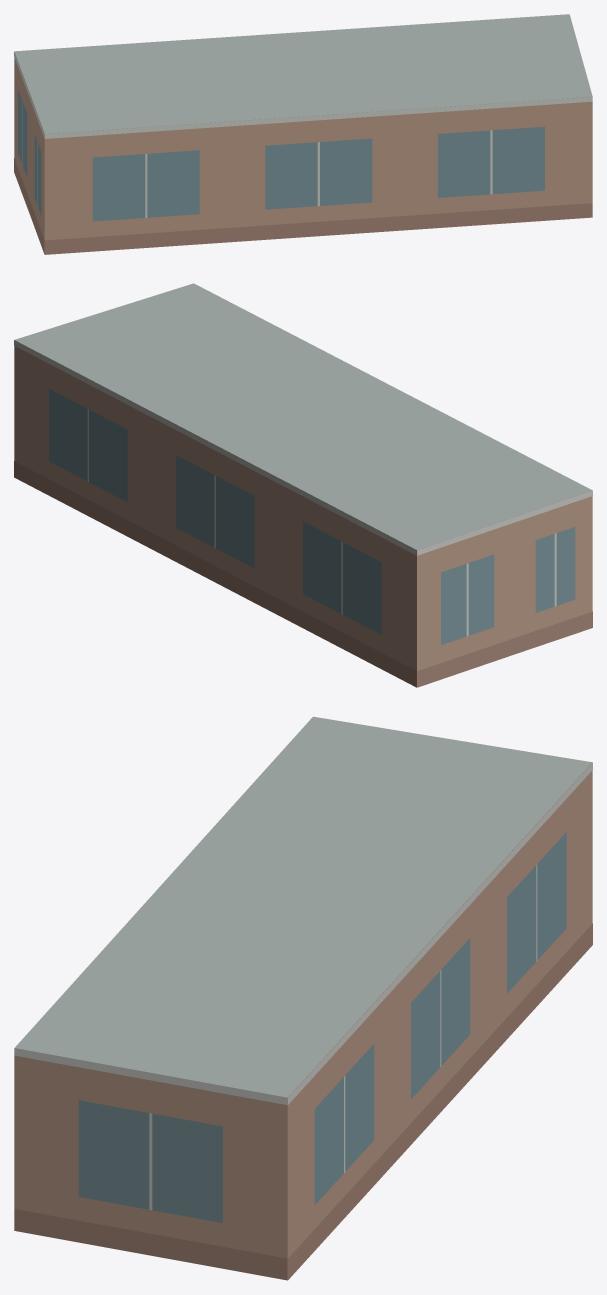
The model's file is survey-upis-32810674.glb.
3 views of the same model, one above another, from view 1: azimuth 30°, elevation 25°; view 2: azimuth 150°, elevation 25°; view 3: azimuth 270°, elevation 25° (orthographic). The views are drawn at different scales.
Parts seen in each view (by area): view 1: survey-upis-32810674.tmp; view 2: survey-upis-32810674.tmp; view 3: survey-upis-32810674.tmp.
Boxes of the visible parts, x1=… form: survey-upis-32810674.tmp: x1=14, y1=14, x2=592, y2=254; survey-upis-32810674.tmp: x1=14, y1=283, x2=592, y2=687; survey-upis-32810674.tmp: x1=14, y1=716, x2=592, y2=1280.
Bounding box in the file's own units: 13.67 × 3.05 × 8.77.
